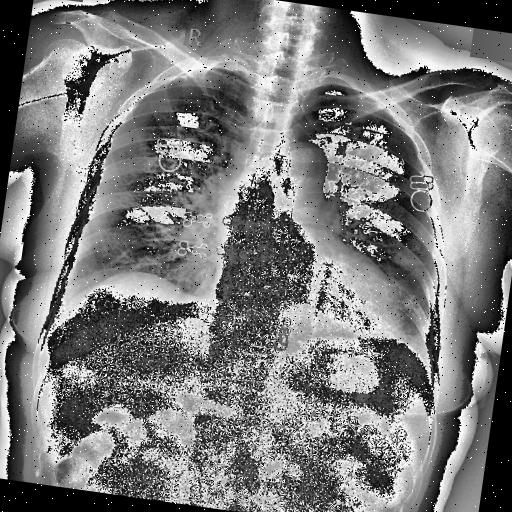0- Aortic enlargement: (268, 138, 332, 194), (276, 138, 330, 185)
3- Cardiomegaly: (200, 256, 412, 365), (206, 248, 410, 340), (206, 256, 409, 340)
